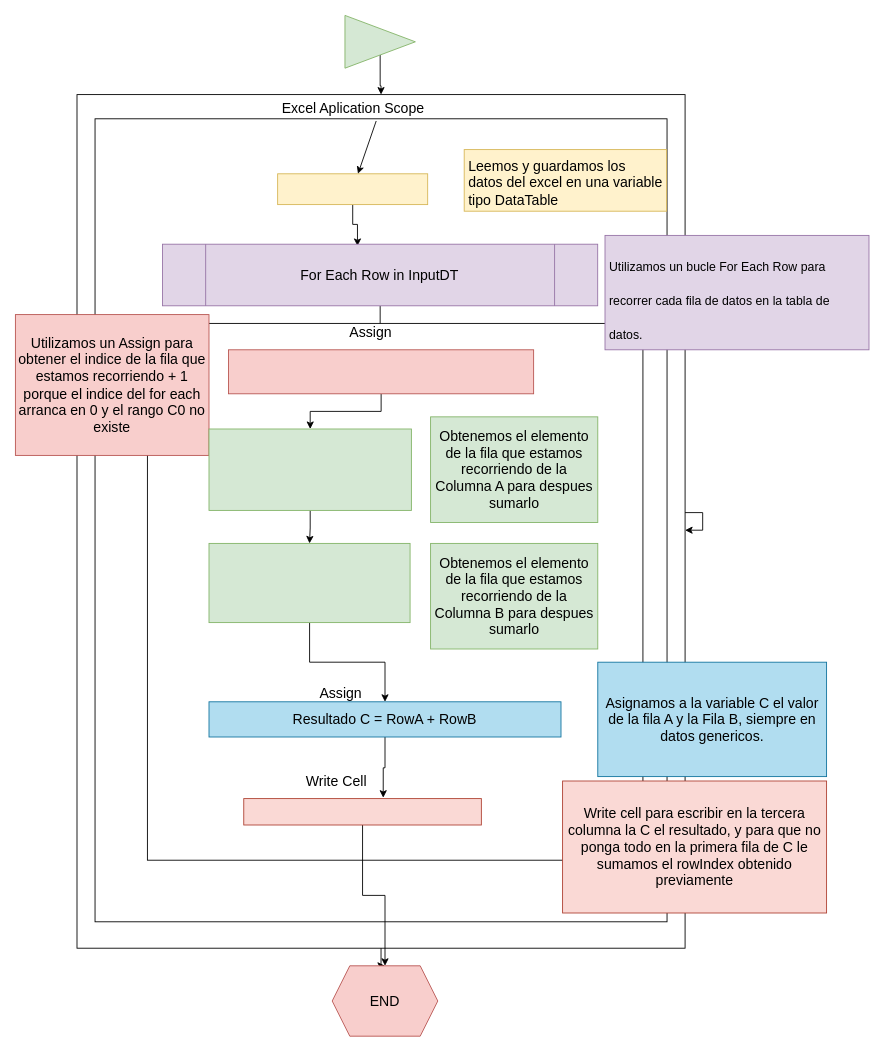
Image size: 884x1052. Some labels were removed from this diagram. Each missing label, with the box of its shape:
"C" + rowIndex: (243, 798, 481, 825)
Get Row Element A: (208, 428, 411, 510)
Get Row Element B: (208, 543, 410, 623)
Inicio: (344, 15, 415, 68)
Read Range: (277, 173, 428, 205)
rowIndex = inputDT.Rows.IndexOf(row) + 1: (228, 349, 534, 394)
